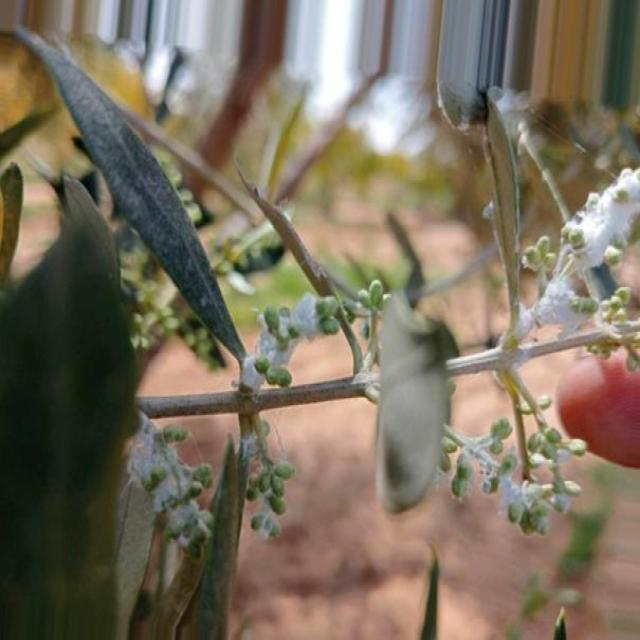Psyllid: (517, 167, 639, 339), (446, 419, 552, 533), (126, 418, 213, 553), (232, 293, 341, 392)
